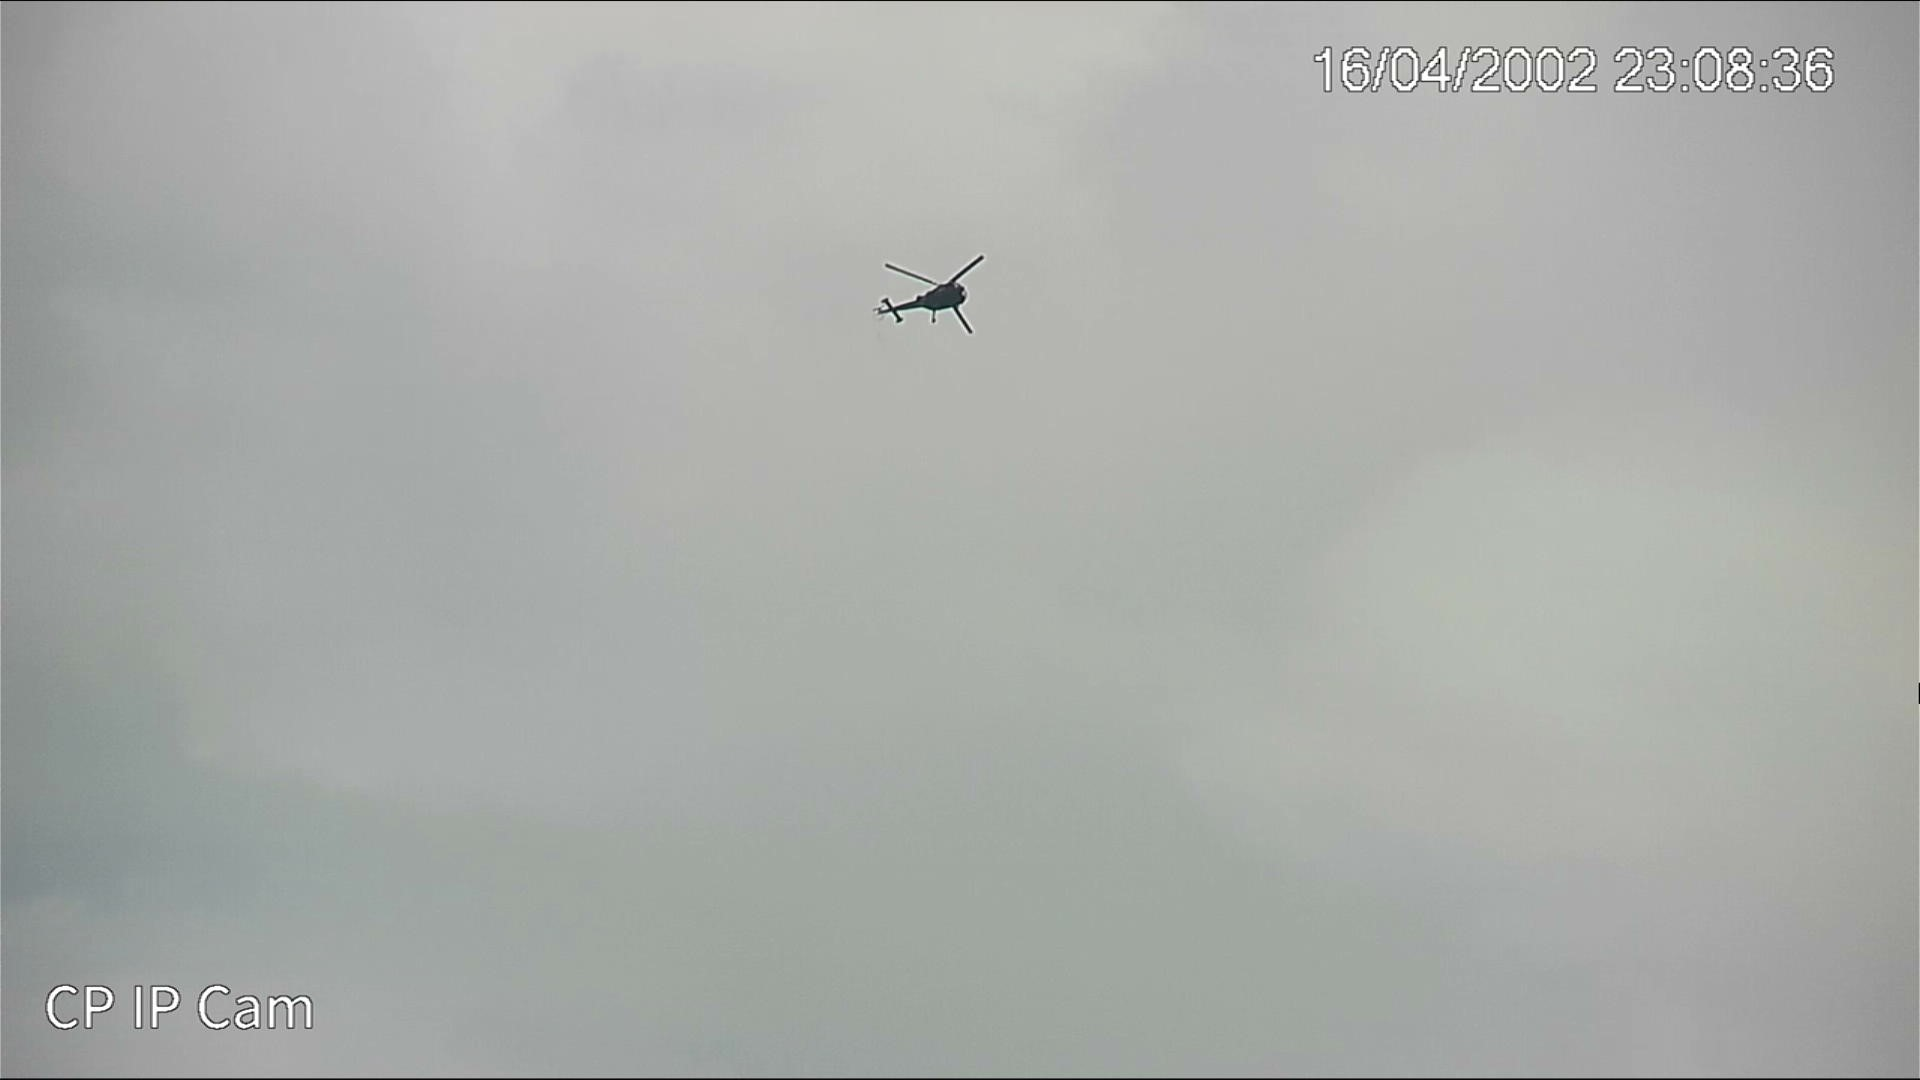SU_30: (876, 260, 988, 322)
